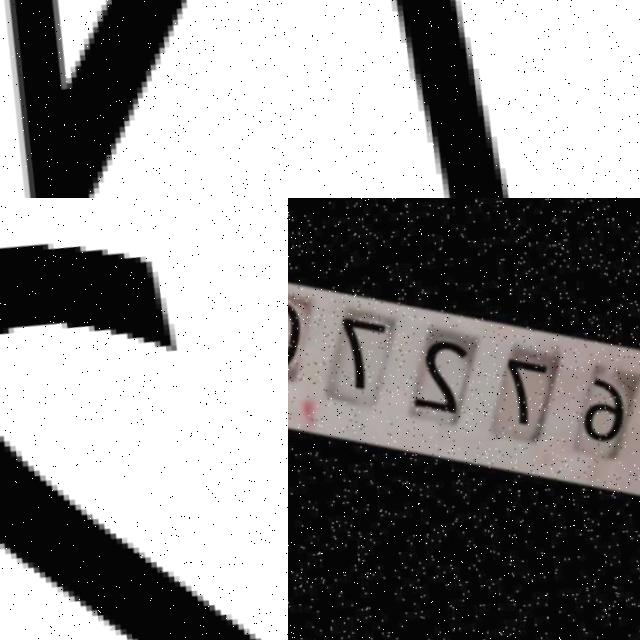0: (288, 274, 333, 392)
2: (0, 198, 288, 640), (399, 309, 500, 431)
6: (568, 346, 640, 456)
7: (317, 291, 416, 409), (486, 330, 577, 441)
L: (288, 0, 640, 198)
